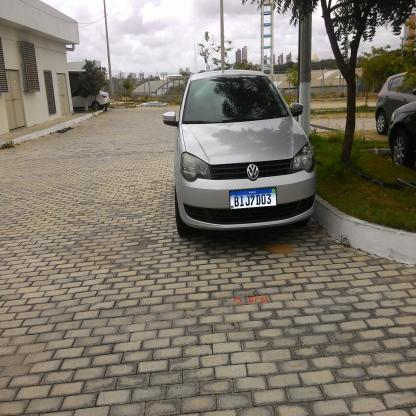PlacaM: (229, 187, 277, 210)
